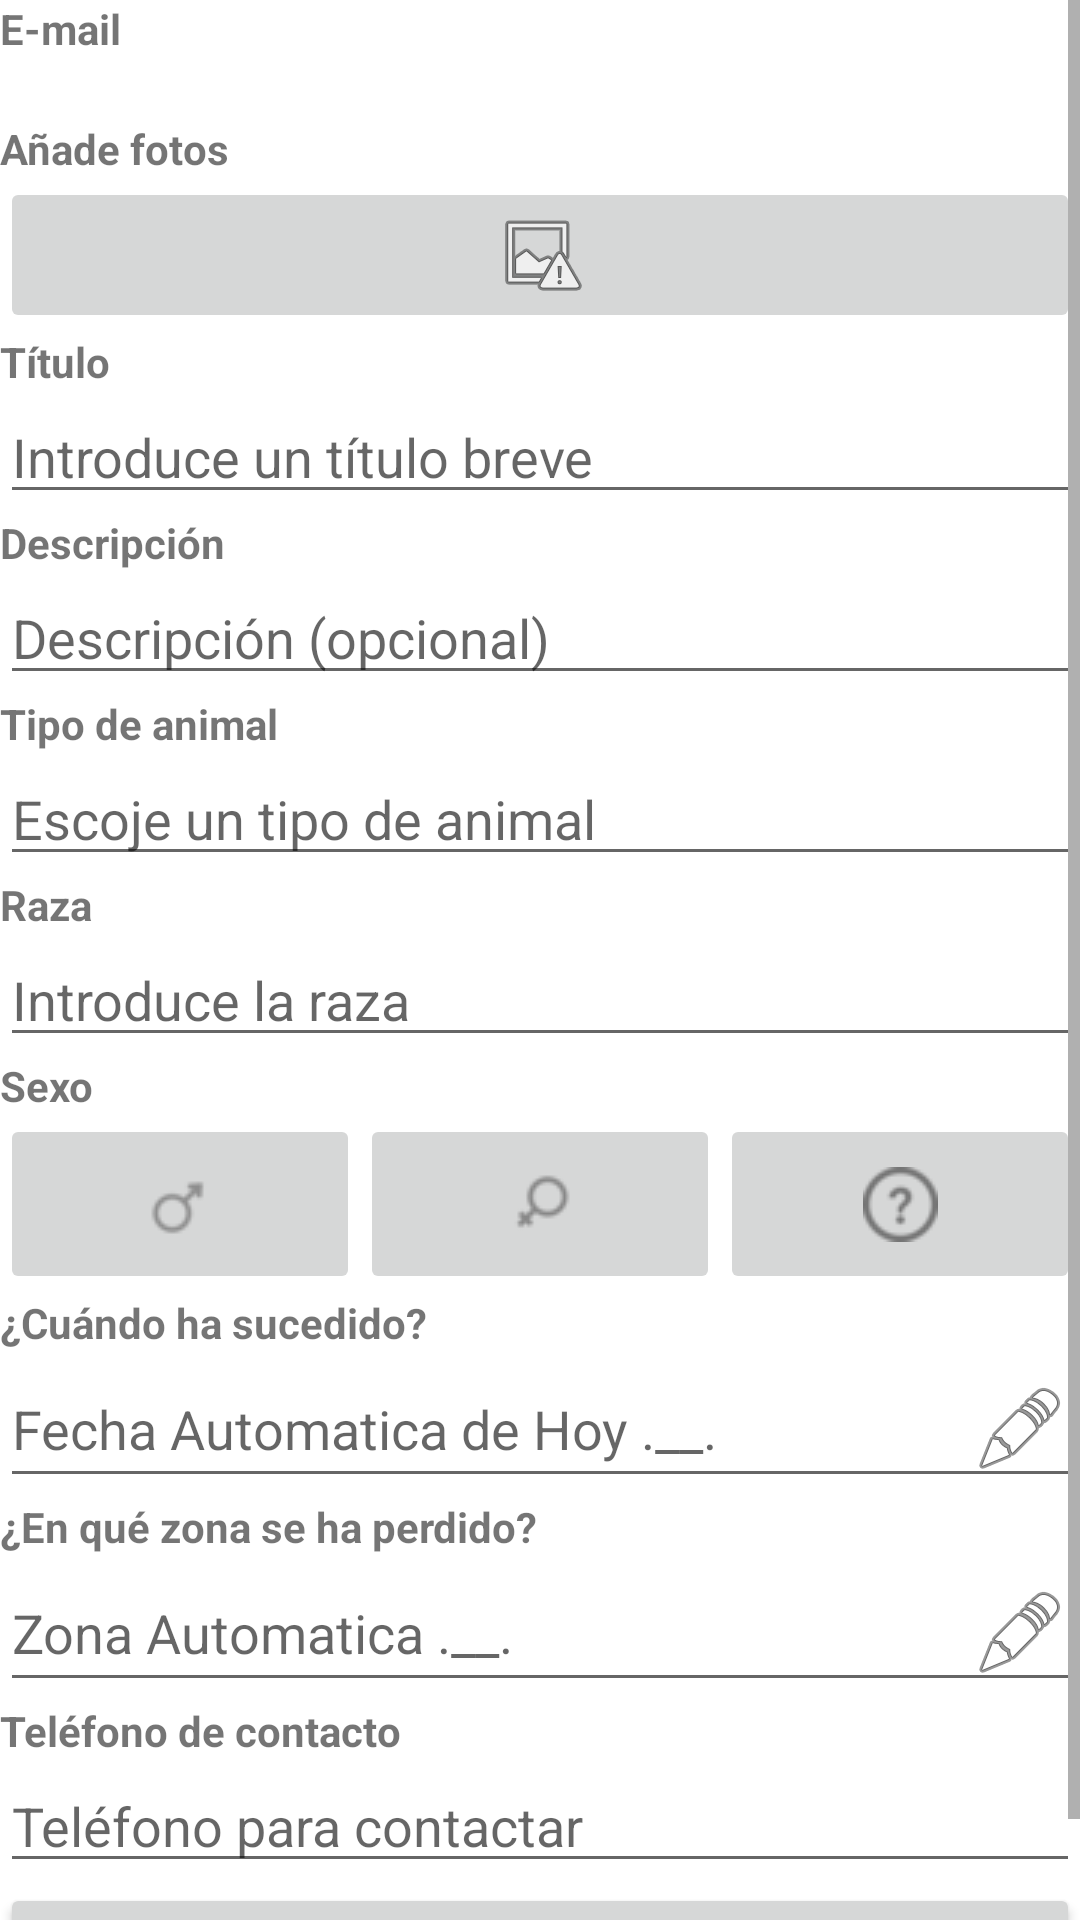

Named icons in this screenshot (1080px×1920px) and their centers, (x=x, y=y):
Hembra: (x=540, y=1204)
Macho: (x=180, y=1204)
Nose: (x=906, y=1204)
